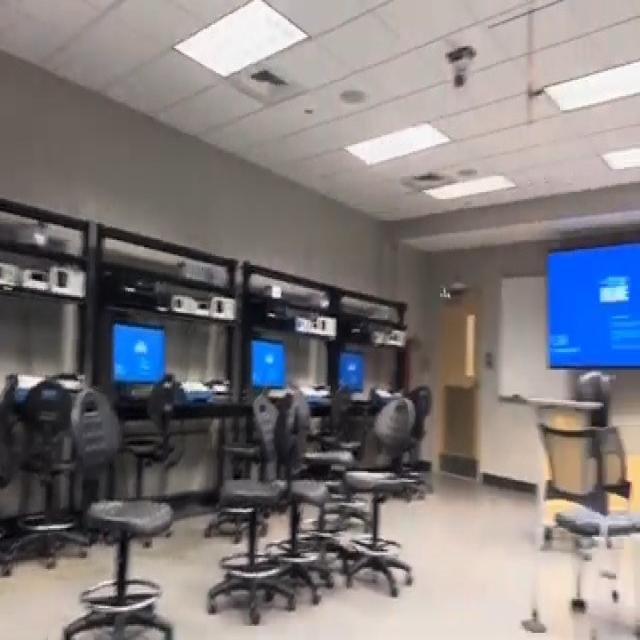drone: (434, 274, 457, 314)
